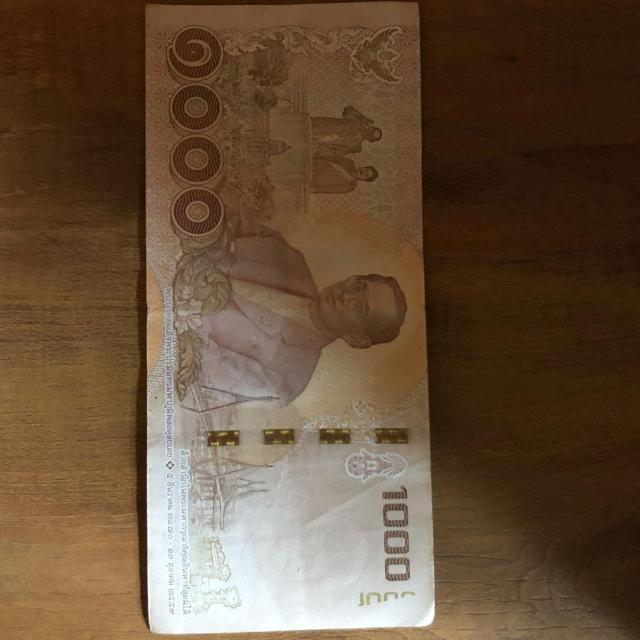THAI1000: (146, 4, 434, 633)
